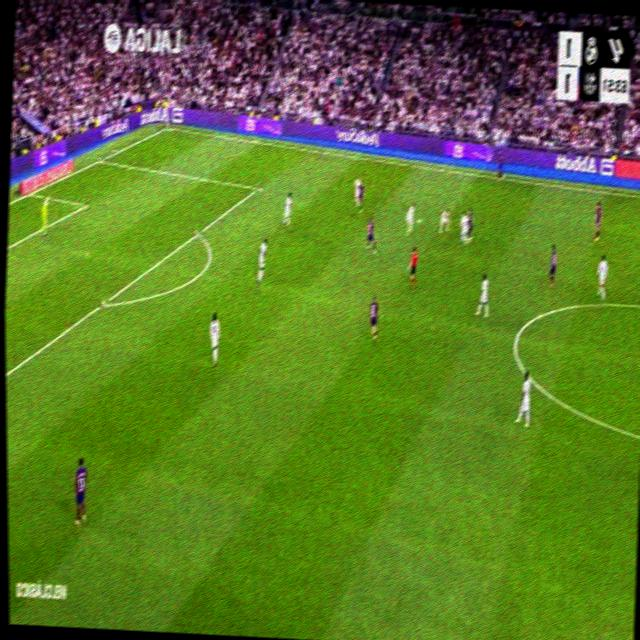bigarea_top_inner: (254, 180, 263, 196)
bigarea_top_outter: (96, 152, 105, 165)
bottom_arc_area_intersection: (96, 294, 109, 313)
corner: (163, 122, 171, 132)
smallarea_top_inner: (81, 198, 90, 212)
top_arc_area_intersection: (193, 224, 203, 240)
